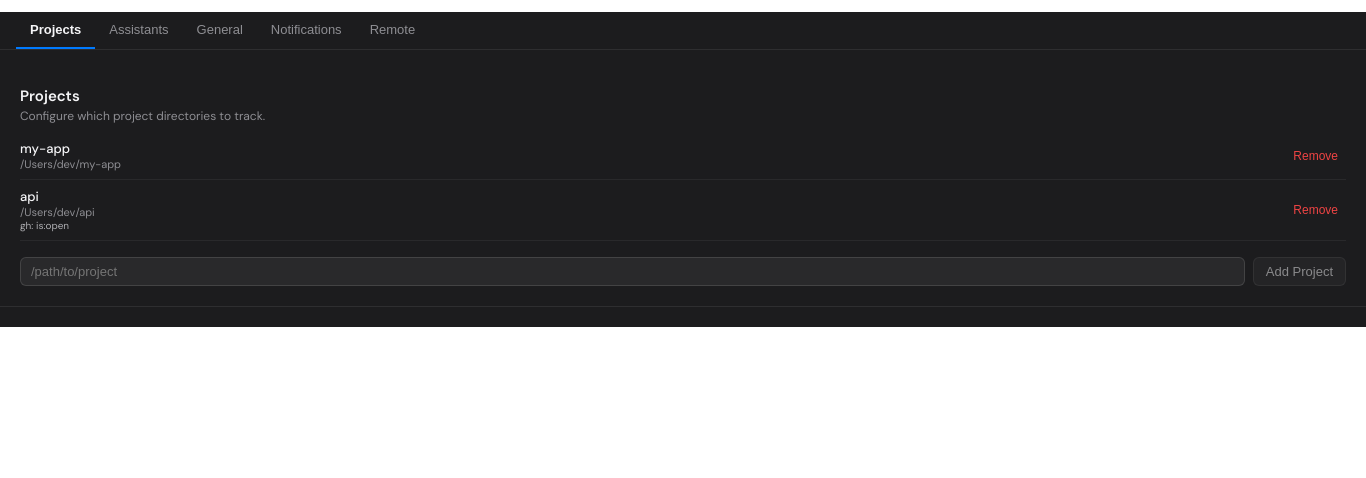
it: SettingsView › Tab navigation › switches to Remote tab on click
Click the button with test id "settings-tab-remote" at (392, 30), box [356,12,429,49]
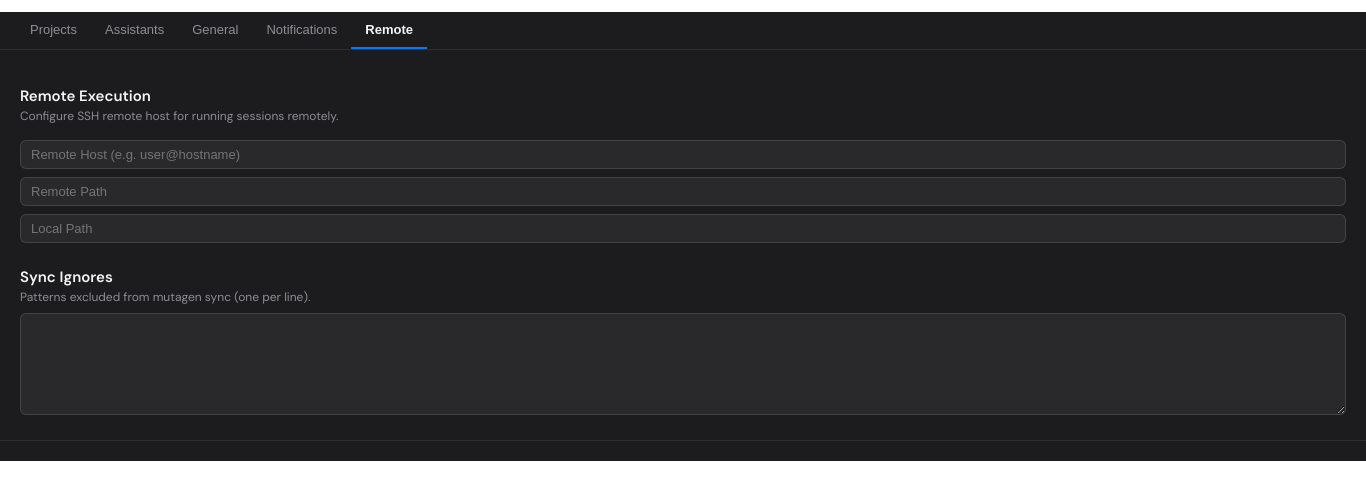
Result: the element with test id "settings-remote" is shown
